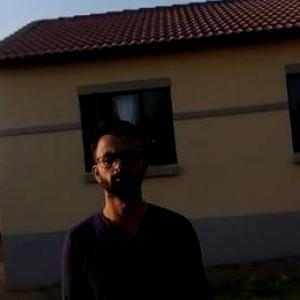follow: (60, 112, 222, 299)
